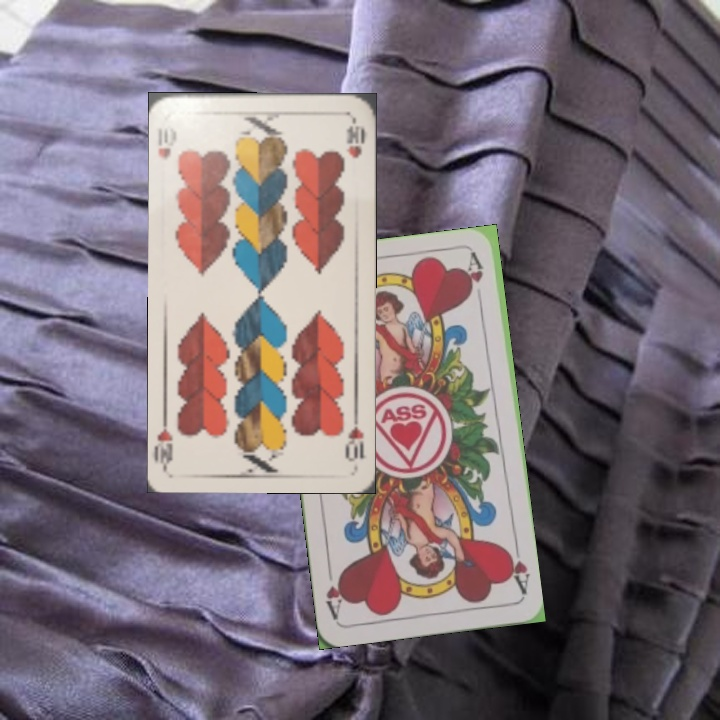H10: (341, 408, 367, 464), (155, 120, 179, 162)
HA: (501, 539, 532, 598)
